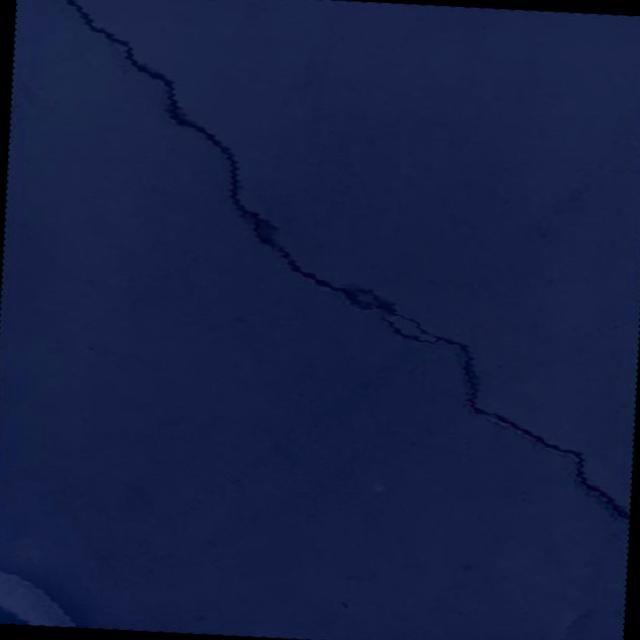crack: (31, 0, 640, 521)
